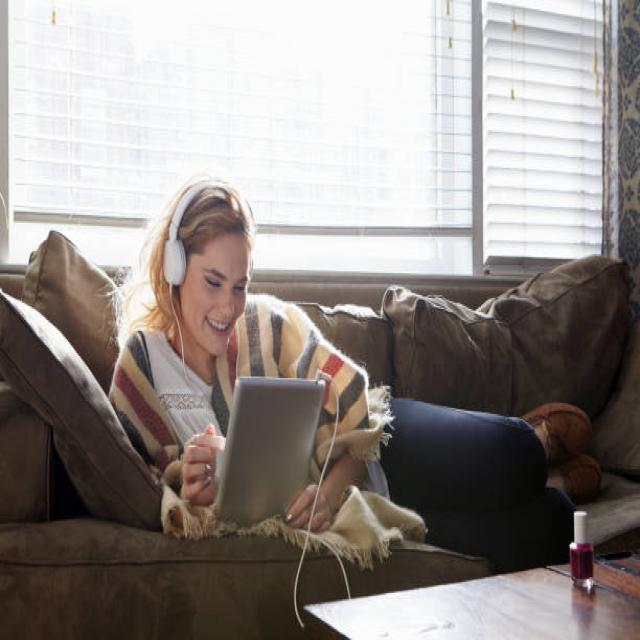Headphone: (162, 178, 224, 288)
